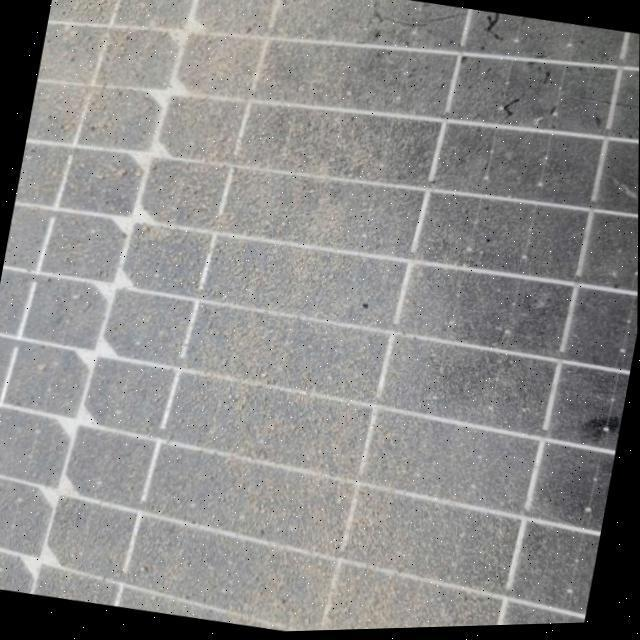Anomaly Solar Panel: (0, 0, 640, 640)
Surface Contaminant: (69, 0, 640, 506)
